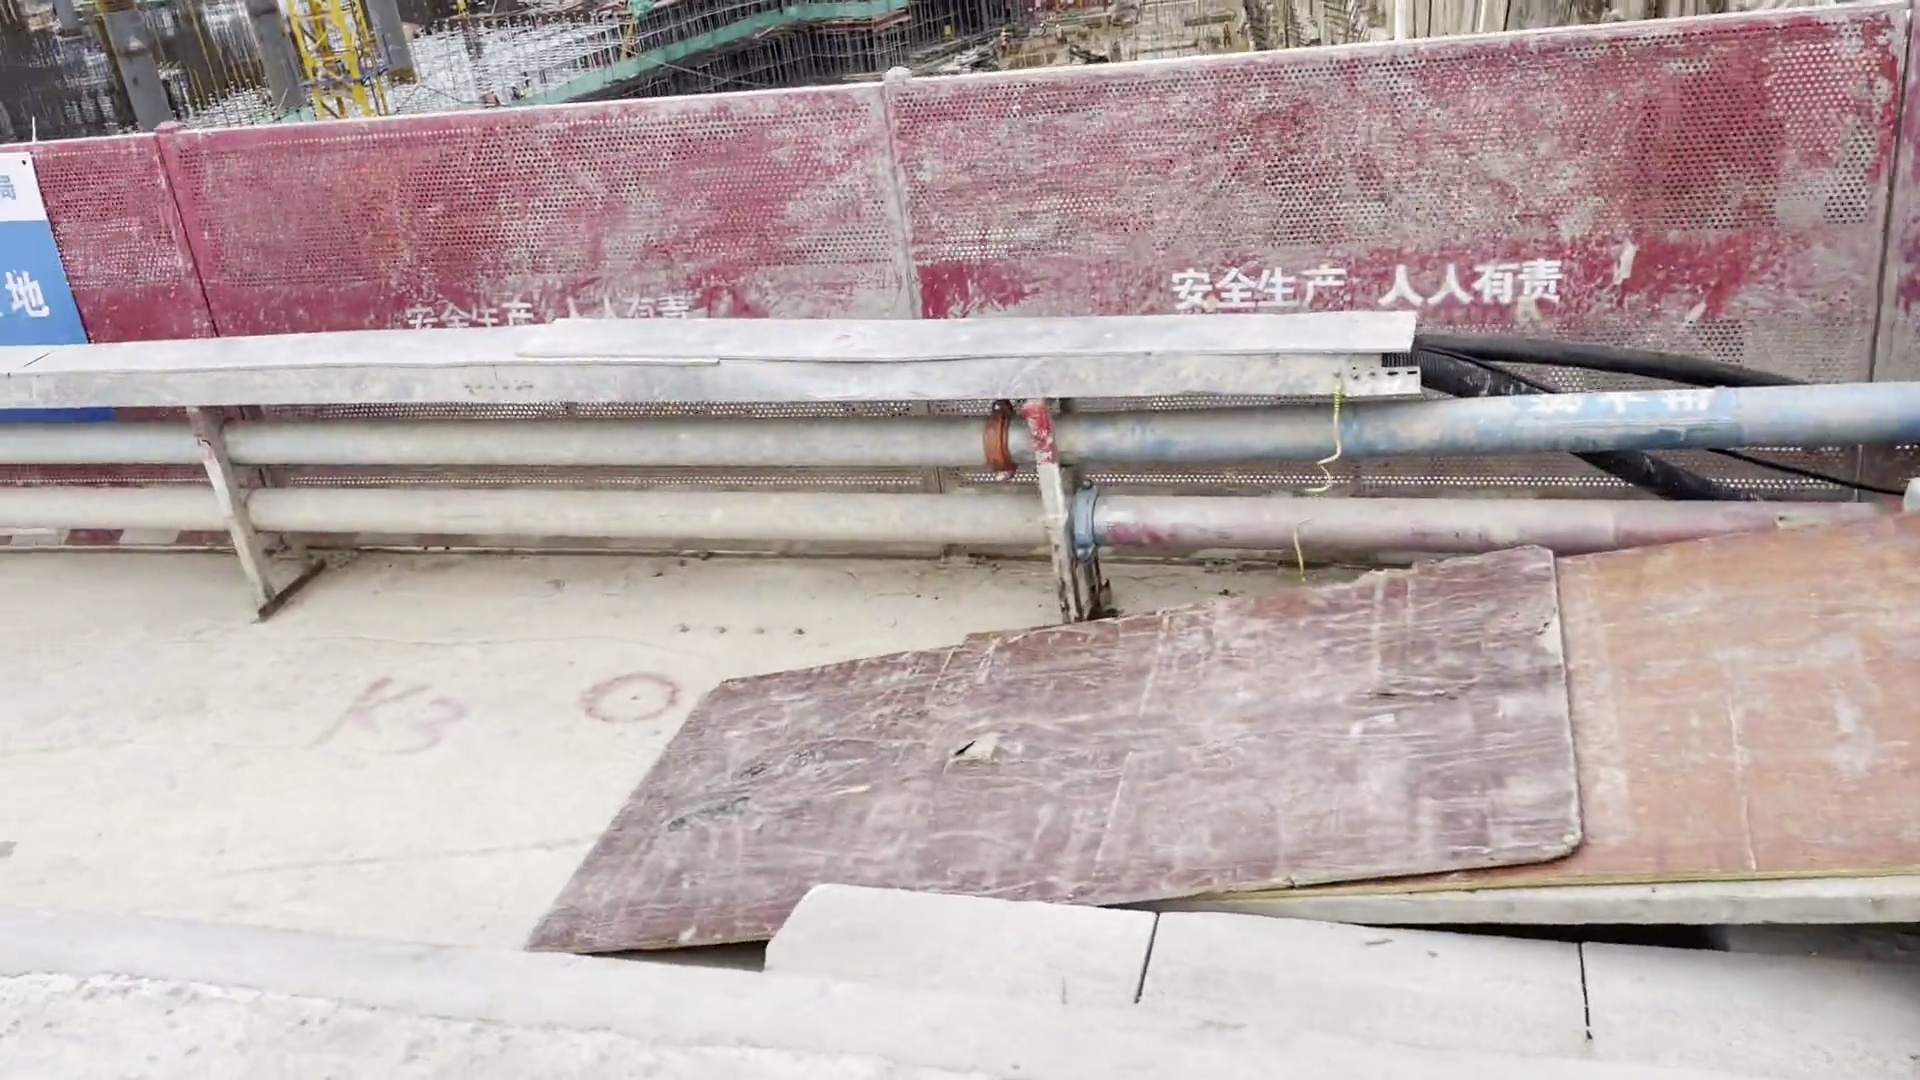board: (512, 491, 1920, 949)
fence: (3, 45, 916, 489), (895, 3, 1920, 394)
slogan: (1, 135, 125, 431)
